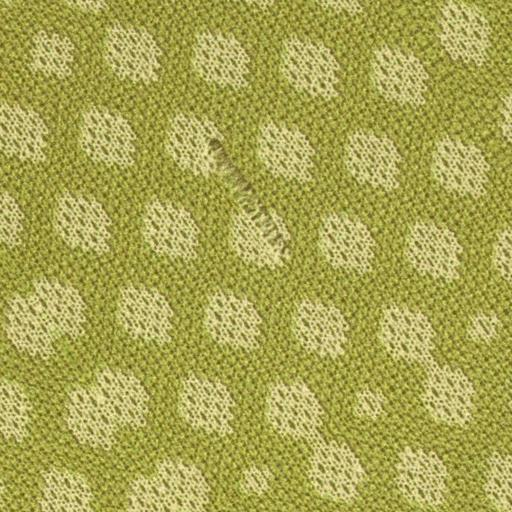slub: (203, 118, 301, 282)
